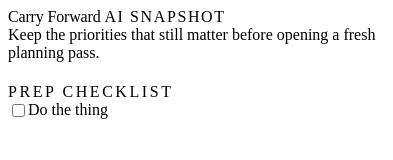
Test: PlanRecap — audit #24/#25/#26 › scopes prep state to classroom+date
Later steps or results of the test are not shown.
Click the checkbox labelled "Do the thing": (18, 111) [12,104,25,117]
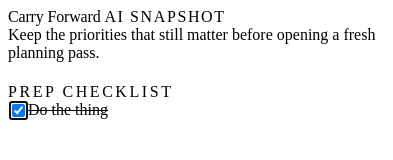
Expected: the checkbox labelled "Do the thing" is checked, [12,104,25,117]
